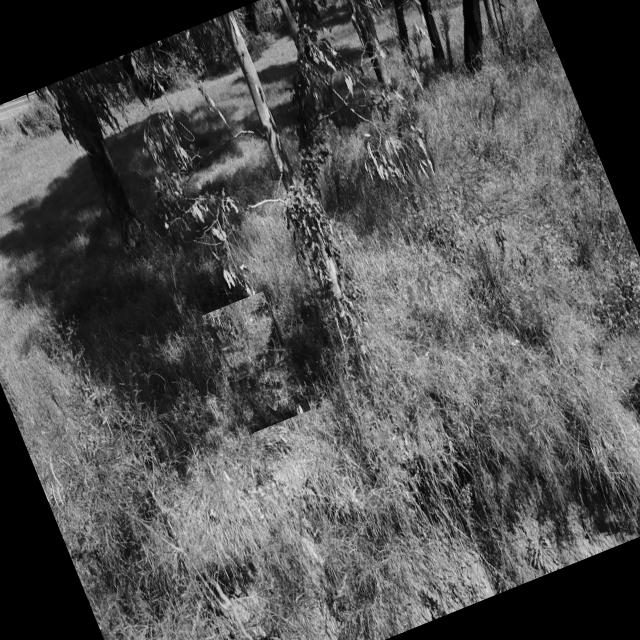Mysore-Thorn-Weed: (202, 291, 310, 434)
